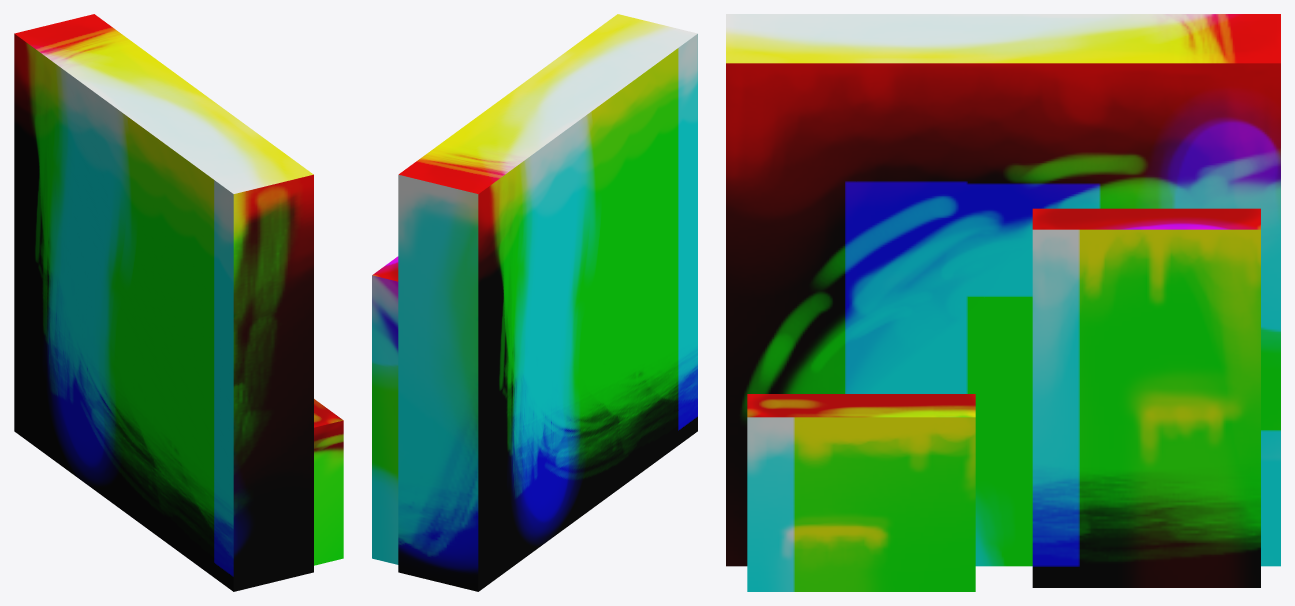
File: Terrain_Cliff01.fbx
The picture shows the model from 3 angles, left to right: view 1: azimuth 30°, elevation 25°; view 2: azimuth 150°, elevation 25°; view 3: azimuth 270°, elevation 25°; orthographic projection. The views are drawn at different scales.
Visible parts, largest first — view 1: Terrain_Cliff01; view 2: Terrain_Cliff01; view 3: Terrain_Cliff01.
Boxes of the visible parts, bbox=[...] form: Terrain_Cliff01: bbox=[14, 14, 343, 591]; Terrain_Cliff01: bbox=[372, 14, 697, 591]; Terrain_Cliff01: bbox=[726, 14, 1280, 591].
Size of the model in its own units: 125 by 402 by 400.
